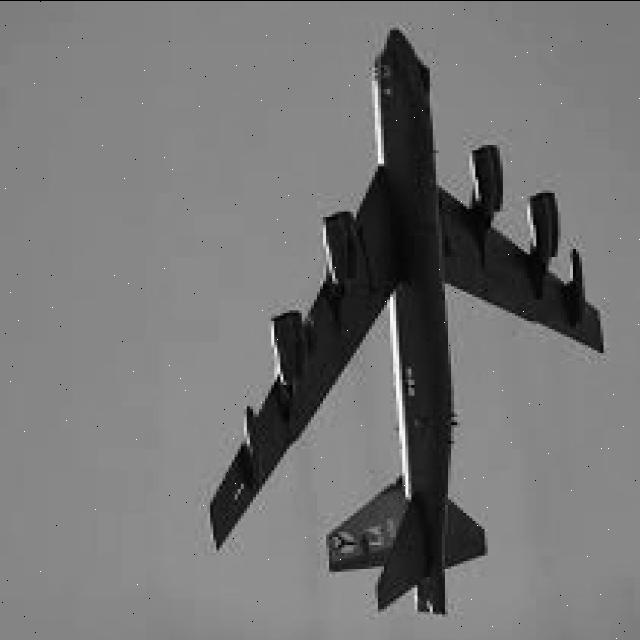B52: (180, 0, 614, 630)
